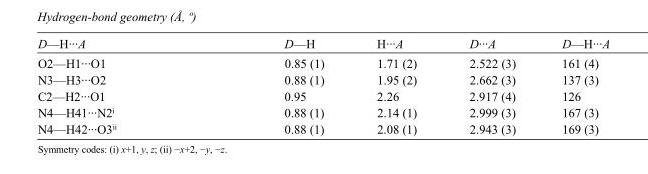table: (36, 36, 609, 135)
table column: (36, 36, 199, 135), (199, 36, 349, 135), (442, 36, 538, 135), (349, 36, 442, 135), (538, 36, 609, 135)
table row: (36, 53, 609, 71), (36, 36, 609, 53), (36, 87, 609, 104), (36, 71, 609, 87), (36, 104, 609, 120), (36, 120, 609, 135)
